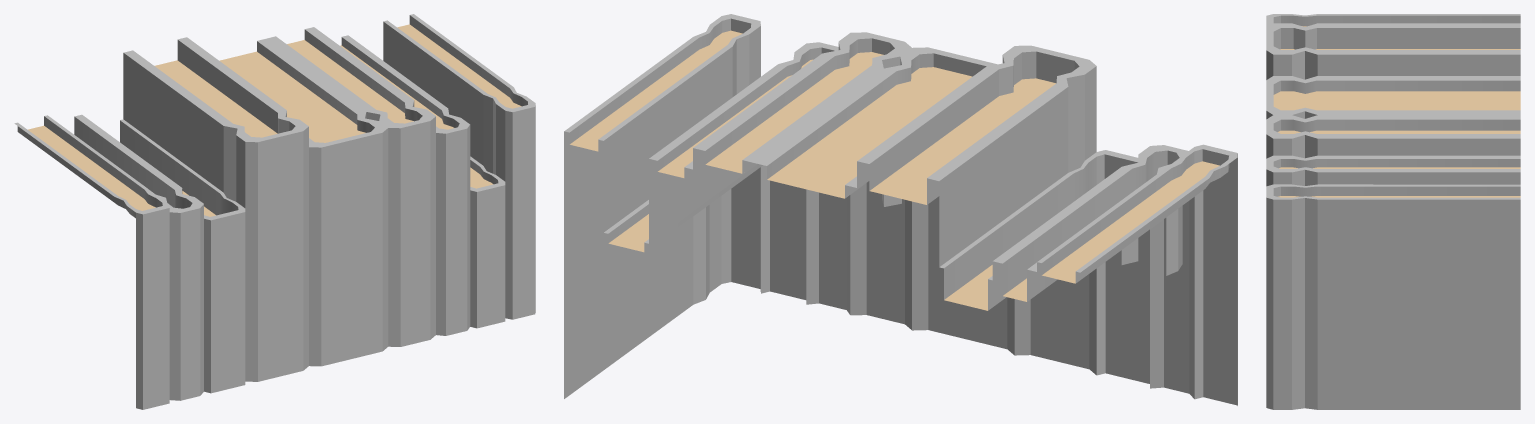
File: prop_biblioteca_libros_hueco002_bis.fbx
3 renders of one model, left to right at view 1: azimuth 30°, elevation 25°; view 2: azimuth 150°, elevation 25°; view 3: azimuth 270°, elevation 25°, orthographic. The views are drawn at different scales.
Visible parts, largest first — view 1: prop_biblioteca_libros_hueco002_bis; view 2: prop_biblioteca_libros_hueco002_bis; view 3: prop_biblioteca_libros_hueco002_bis.
Boxes of the visible parts, bbox=[...] form: prop_biblioteca_libros_hueco002_bis: bbox=[14, 14, 535, 409]; prop_biblioteca_libros_hueco002_bis: bbox=[564, 14, 1237, 405]; prop_biblioteca_libros_hueco002_bis: bbox=[1266, 14, 1520, 409].
Size of the model in its own units: 66.29 by 38.01 by 36.04.
